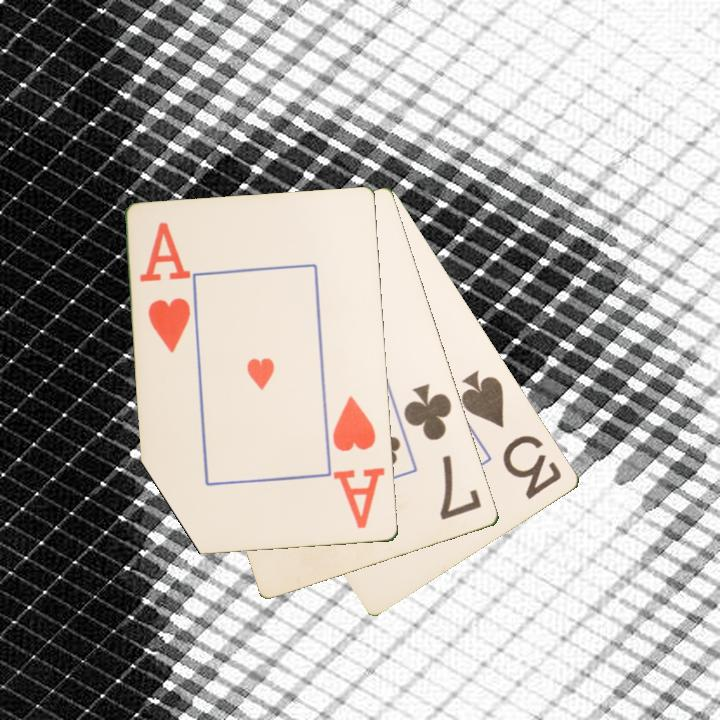3s: (457, 367, 566, 503)
7c: (400, 380, 485, 523)
Ah: (329, 392, 389, 532), (137, 219, 194, 356)
